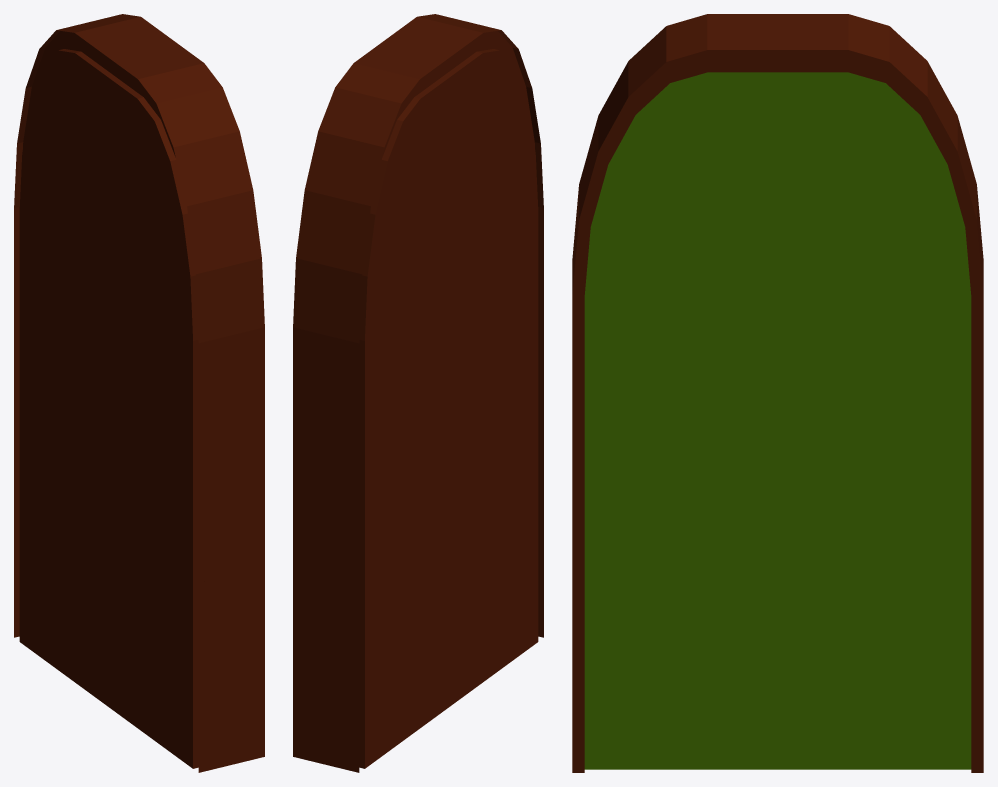
Rendered from door.fbx.
3 renders of one model, left to right at view 1: azimuth 30°, elevation 25°; view 2: azimuth 150°, elevation 25°; view 3: azimuth 270°, elevation 25°, orthographic. The views are drawn at different scales.
Visible parts, largest first — view 1: Cube.016; view 2: Cube.016; view 3: Cube.016.
Boxes of the visible parts, x1,y1,x2,y2 form: Cube.016: (14,14,264,772); Cube.016: (293,14,543,772); Cube.016: (572,14,983,772).
Size of the model in its own units: 44.12 by 413 by 213.
